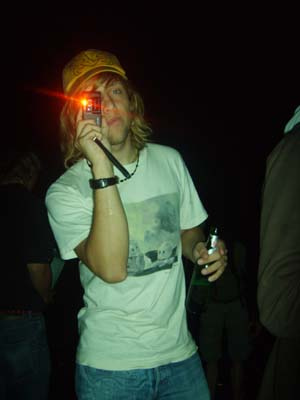person: (45, 48, 229, 400)
